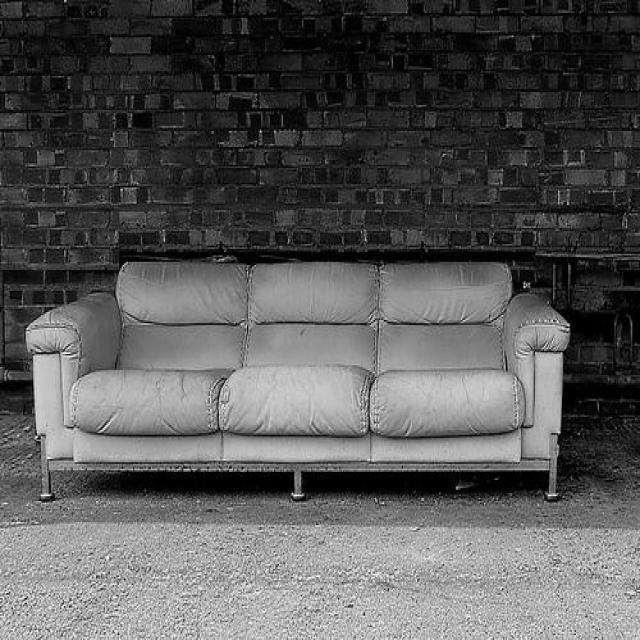sofa: (24, 257, 570, 503)
